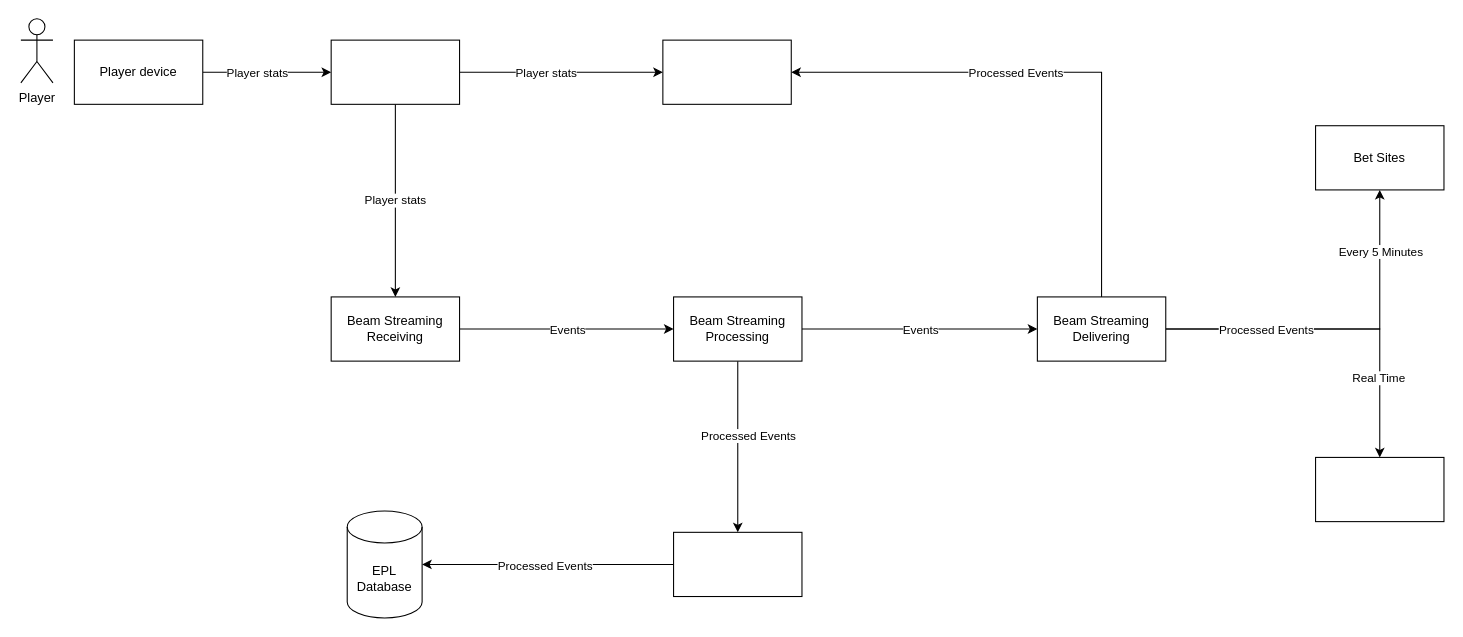
Some shapes in this 1463 by 637 pixel diagram are drawn without their labels. The shapes that lost their labels are listed below. From the top down, each one's centre as x and y in pixels, then its label:
the point at 395,71: Device Server
the point at 726,71: Teams Platform
the point at 1379,489: Sports Sites
the point at 737,564: Beam Streaming Storing
